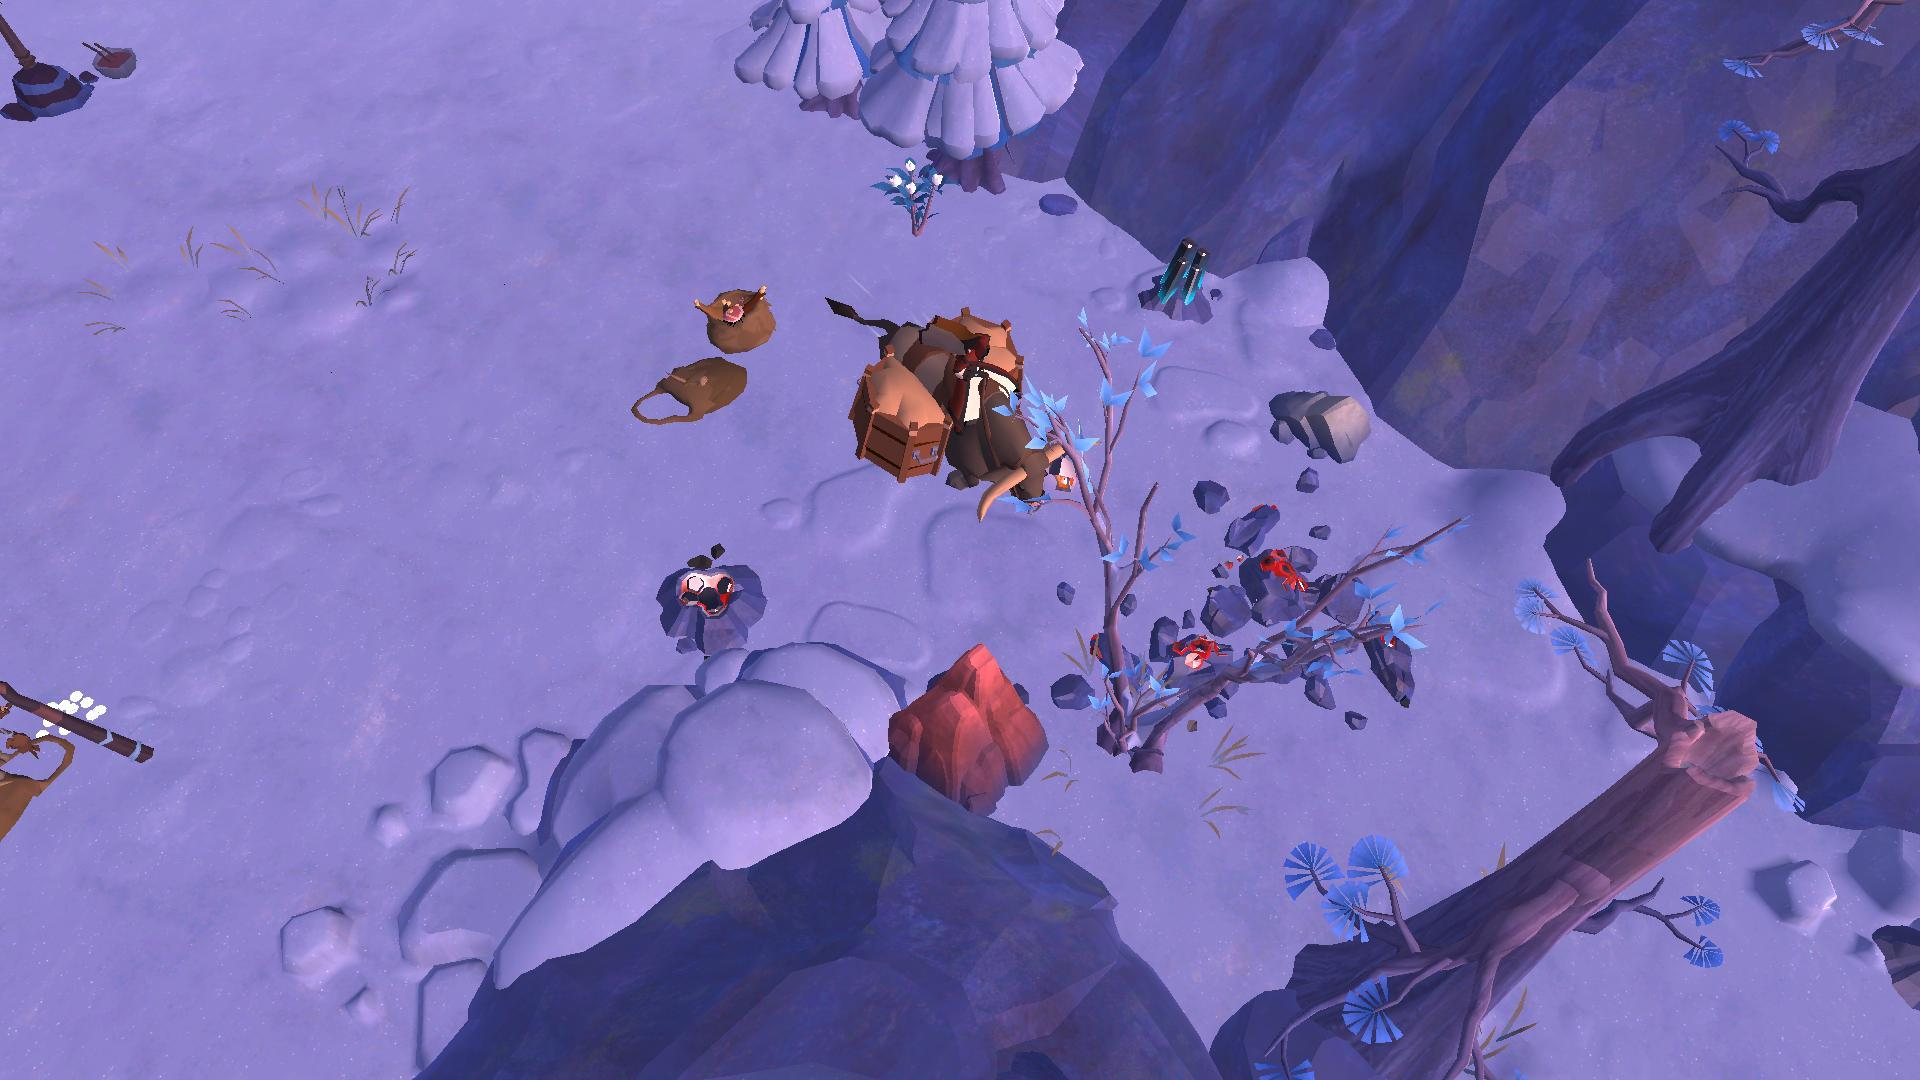fiber_t4: (870, 153, 947, 235)
ore_t4: (1153, 236, 1205, 314)
rock_t5: (881, 642, 1052, 807)
